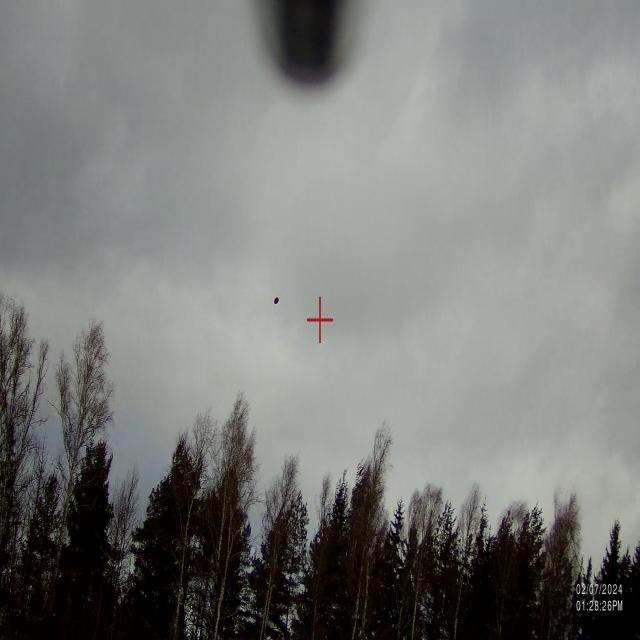entire: (265, 288, 285, 316)
